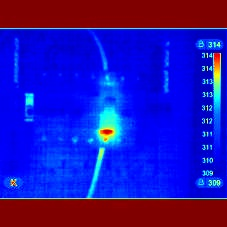Critical: (94, 110, 130, 145)
